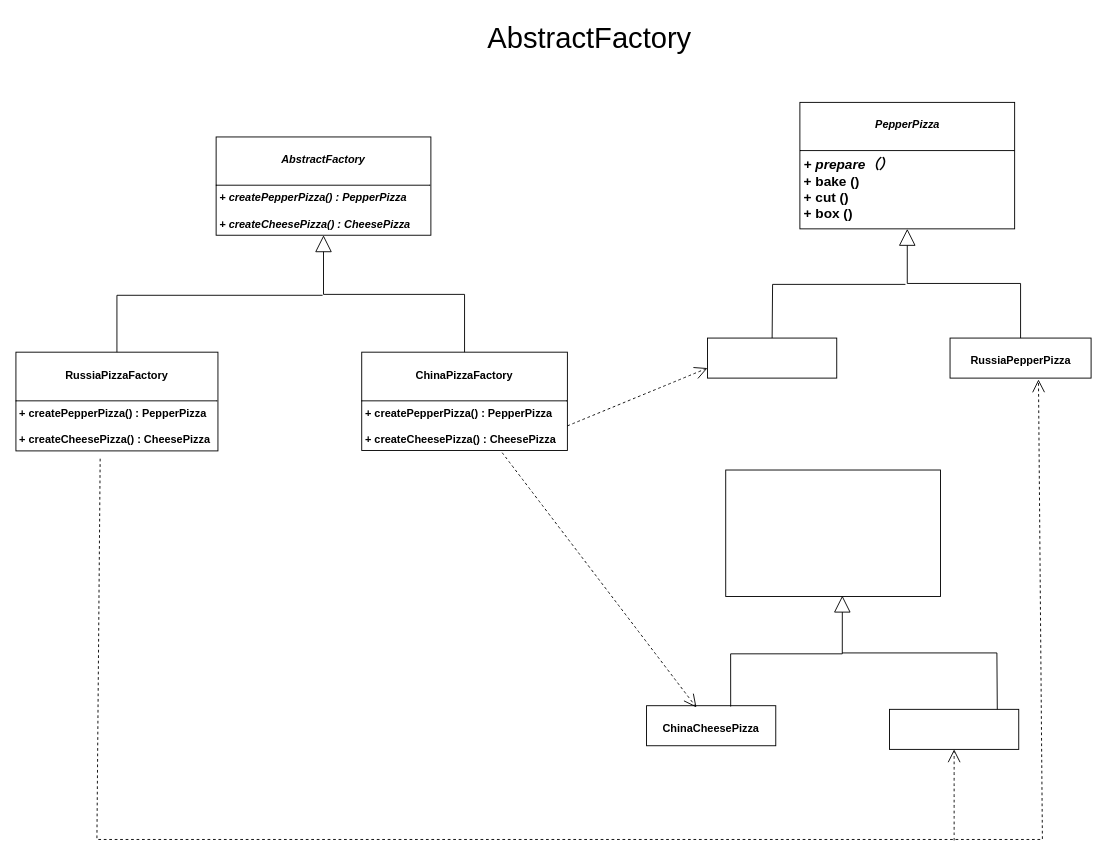
The diagram is 1107 pixels wide and 868 high, and some of its shapes have lost their labels. The shapes that lost their labels are listed below. From the top down, each one's box as (x1, y1, x2, y2) in pixels, then its label:
(707, 337, 837, 378): ChinaPepperPizza
(725, 469, 940, 597): CheesePizza + prepare（） + bake () + cut () + box ()
(889, 708, 1019, 749): RussiaCheesePizza
